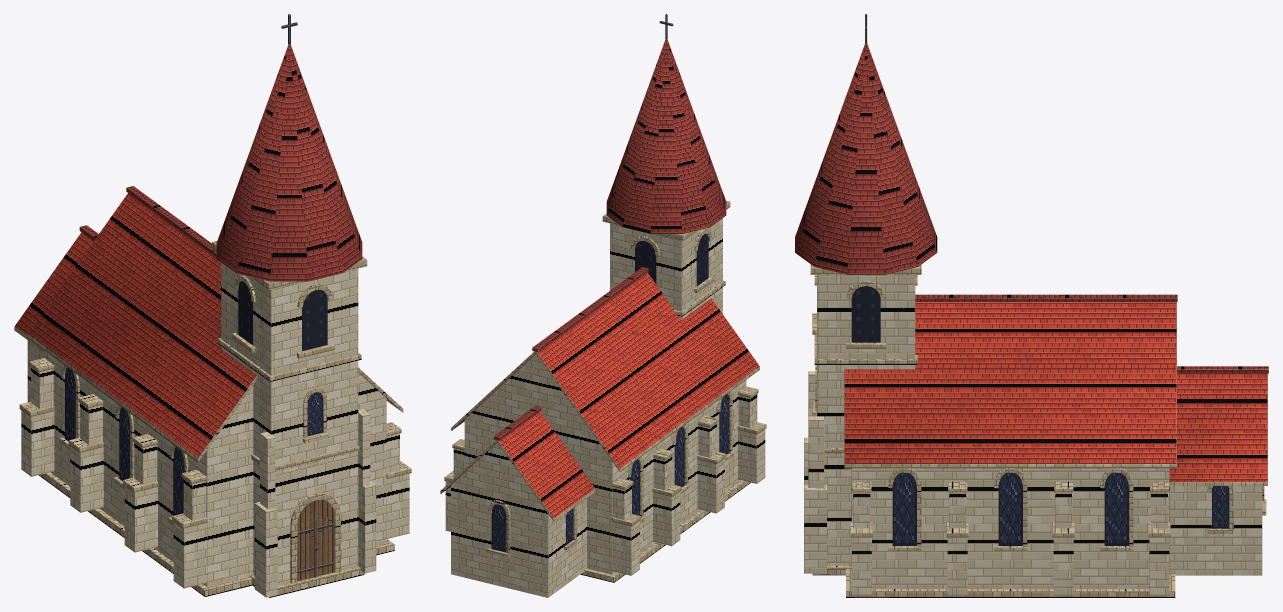
File: chapel_0.glb
3 renders of one model, left to right at view 1: azimuth 30°, elevation 25°; view 2: azimuth 150°, elevation 25°; view 3: azimuth 270°, elevation 25°, orthographic. The views are drawn at different scales.
Parts seen in each view (by area): view 1: chapel_1; view 2: chapel_1; view 3: chapel_1.
Part boxes in pixels (left/top/right/bottom): chapel_1: left=14, top=14, right=411, bottom=597; chapel_1: left=440, top=14, right=766, bottom=597; chapel_1: left=795, top=14, right=1268, bottom=597.
Size of the model in its own units: 8.9 by 20.55 by 16.39.
11 materials, 11 textured.
